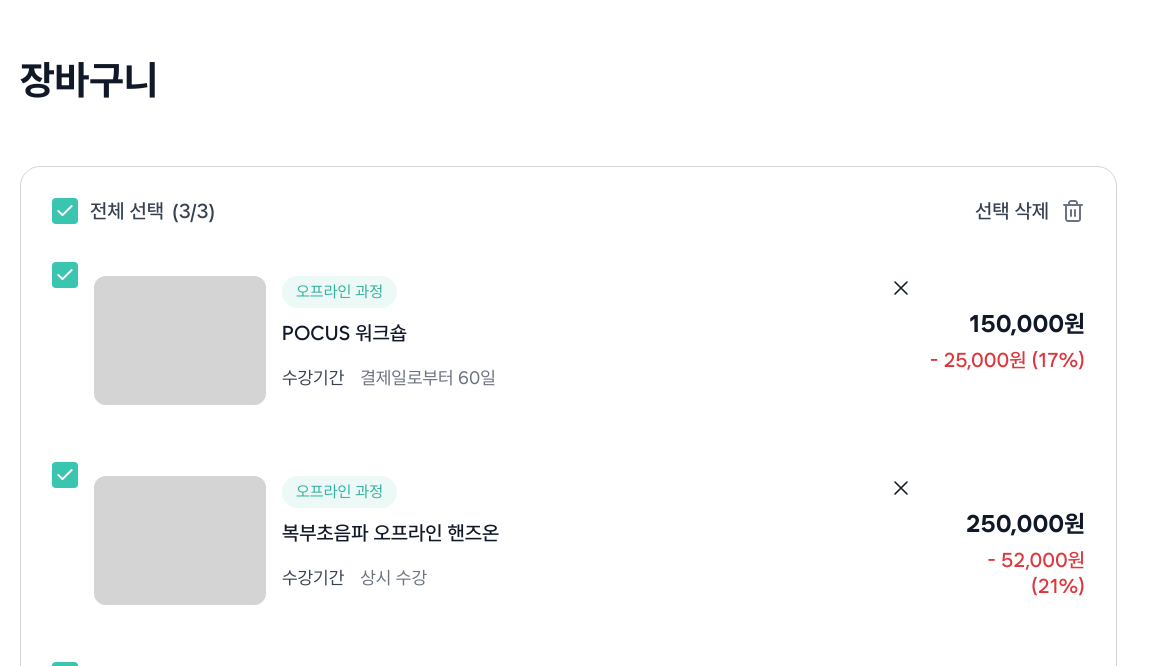
Scenario: CartPage › updates the total when a cart item is unchecked
This screenshot has width=1152, height=666.
Click the checkbox named "복부초음파 오프라인 핸즈온 선택": {"x": 65, "y": 475} 52,462 -> 78,488
(page scrolled)
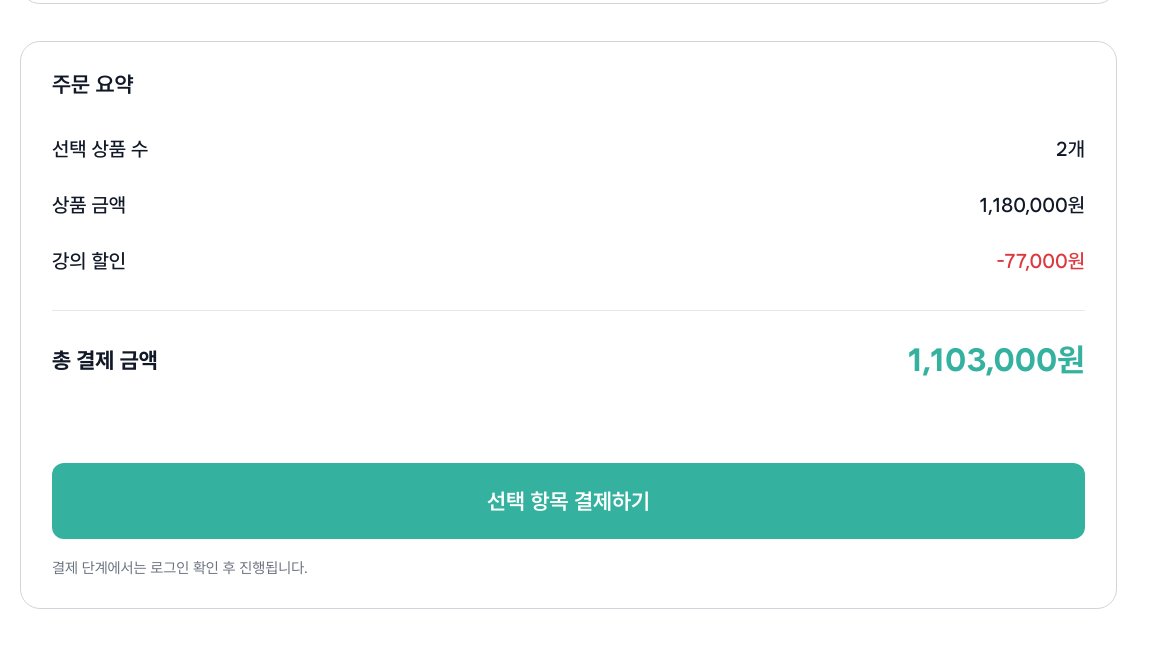
Expected: the text "1,103,000원" is shown, 907,340 -> 1085,381
